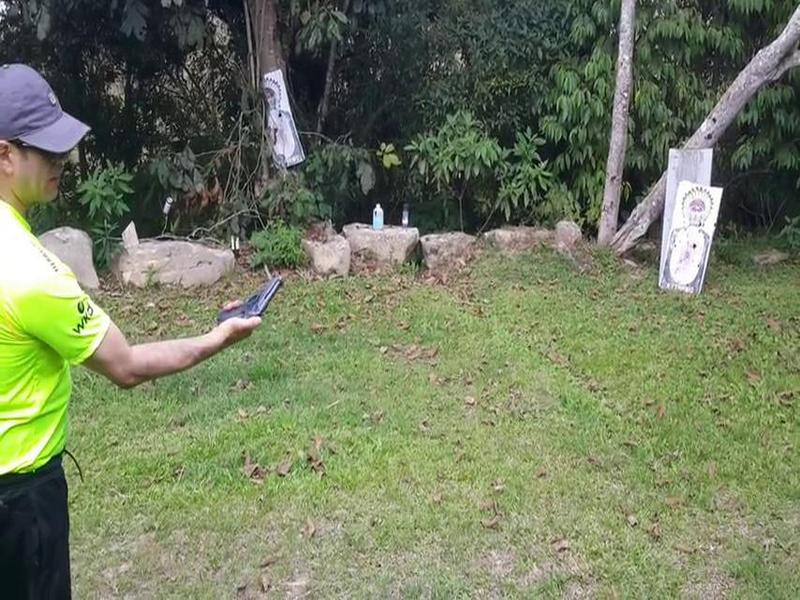Pistola: (218, 272, 289, 330)
